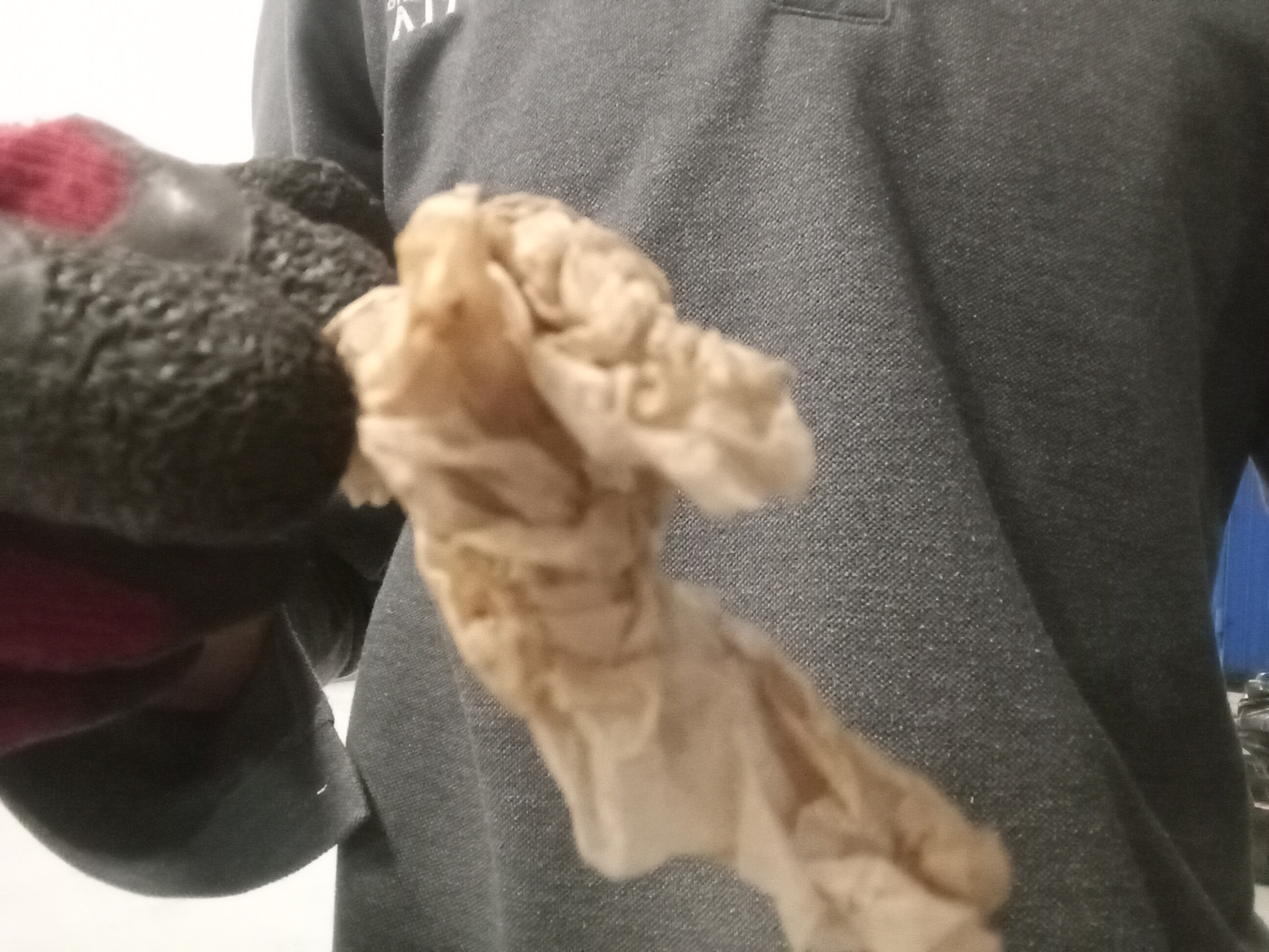Ordinario: (319, 183, 1010, 948)
